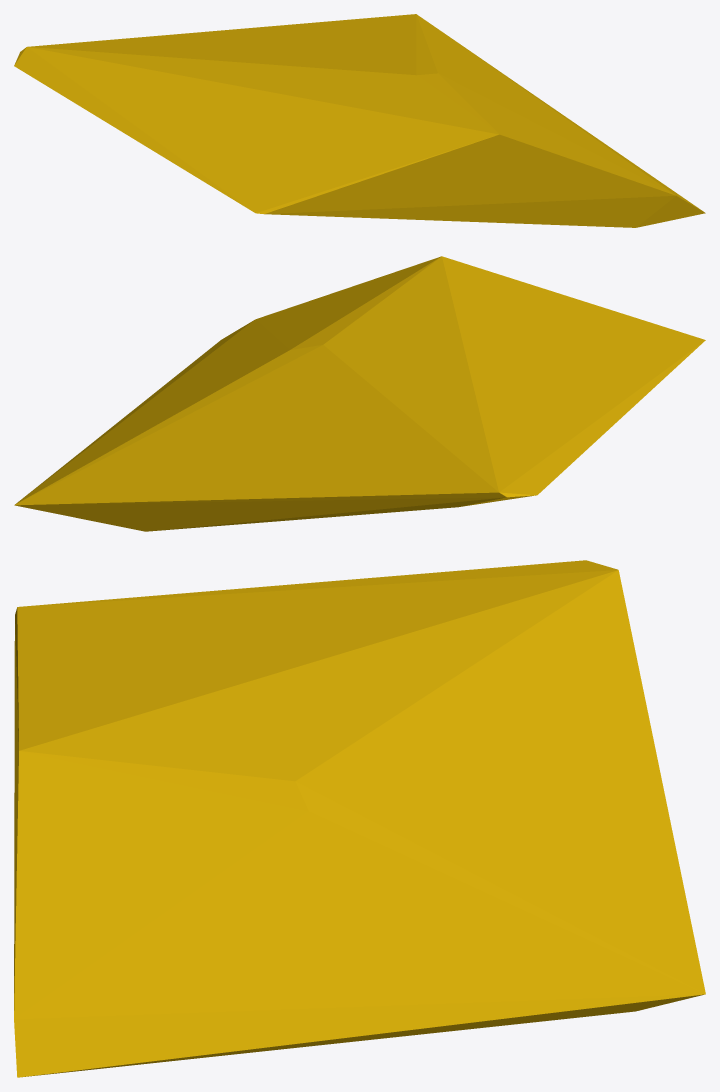
Rendered from shoulder-roll-housing-mirror_convex_piece_003.obj.
The picture shows the model from 3 angles, top to bottom: view 1: azimuth 30°, elevation 25°; view 2: azimuth 150°, elevation 25°; view 3: azimuth 270°, elevation 25°; orthographic projection. The views are drawn at different scales.
Size of the model in its own units: 0.0895 by 0.0225 by 0.0762.
